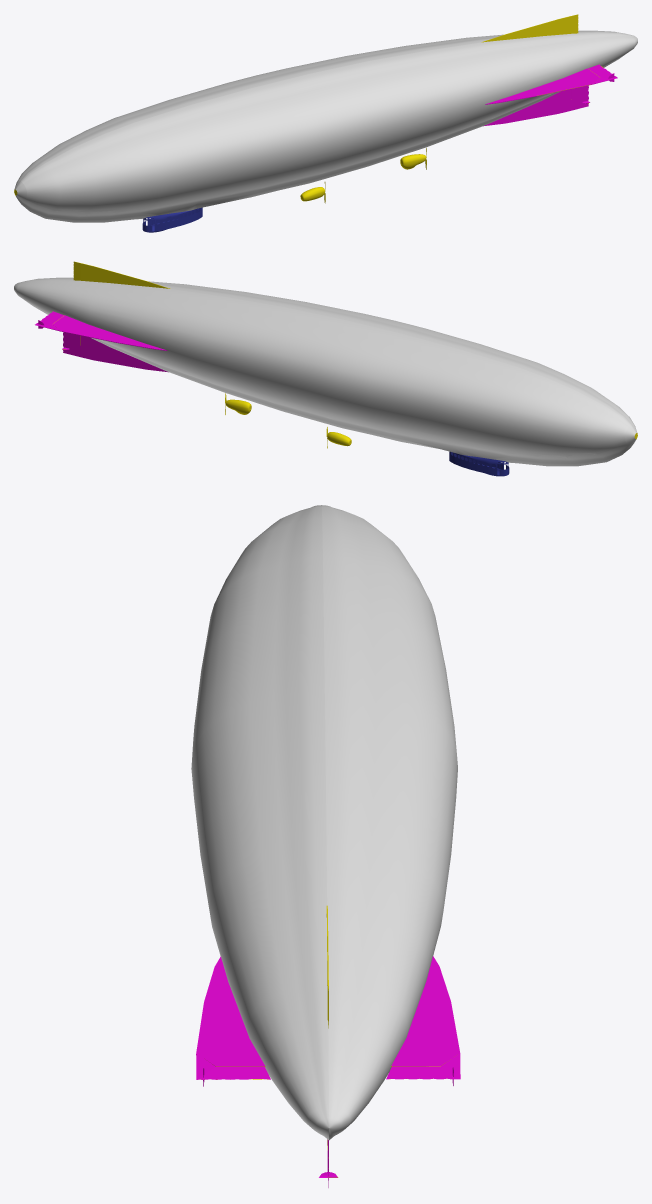
Rendered from DirigibleCool.fbx.
3 renders of one model, top to bottom at view 1: azimuth 30°, elevation 25°; view 2: azimuth 150°, elevation 25°; view 3: azimuth 270°, elevation 25°, orthographic. The views are drawn at different scales.
Visible parts, largest first — view 1: Empty; view 2: Empty; view 3: Empty.
Part boxes in pixels (x1,y1,x2,y2): Empty: (14, 14, 637, 232); Empty: (14, 261, 637, 476); Empty: (191, 505, 460, 1187).
Bounding box in the file's own units: 6298 × 1201 × 1181.
